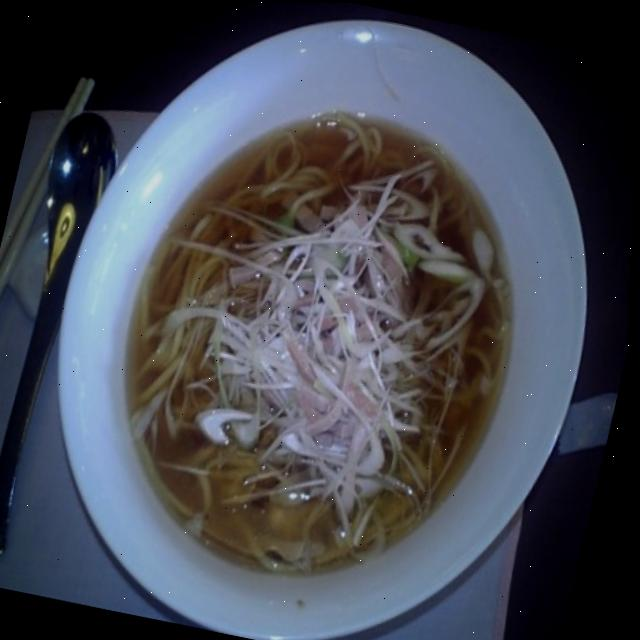面条主食: (71, 44, 619, 639)
